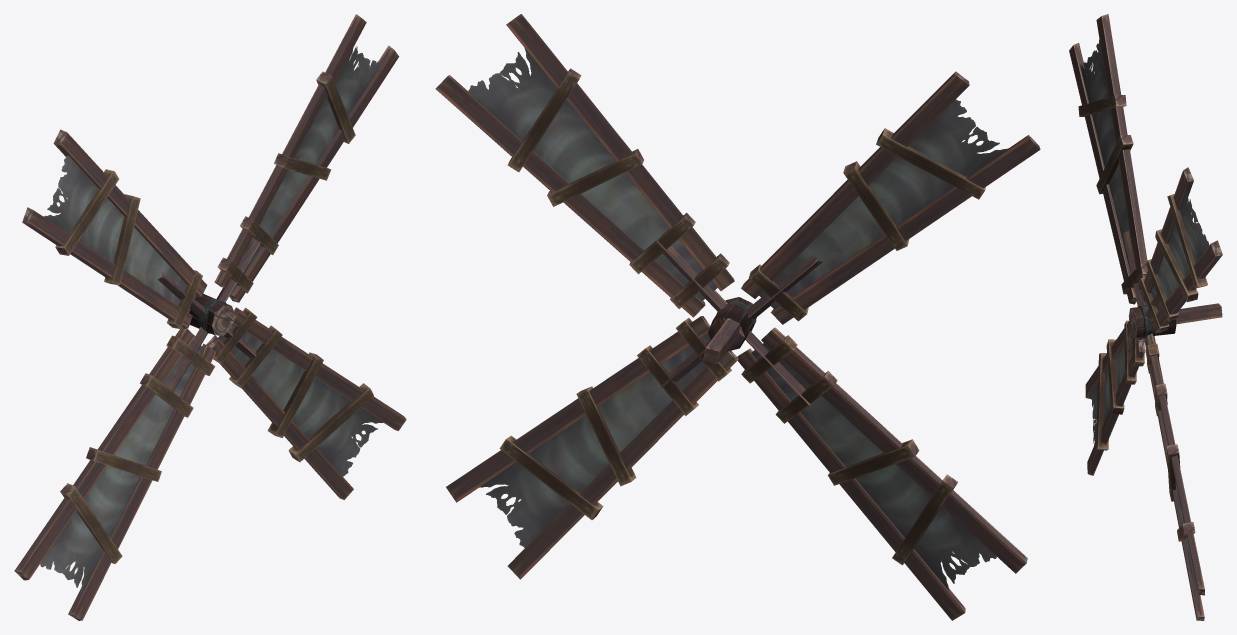
File: Mill_Fan.fbx
3 views of the same model, side by side, from view 1: azimuth 30°, elevation 25°; view 2: azimuth 150°, elevation 25°; view 3: azimuth 270°, elevation 25° (orthographic). The views are drawn at different scales.
Parts seen in each view (by area): view 1: Mill_Fan; view 2: Mill_Fan; view 3: Mill_Fan.
Part boxes in pixels (x1,y1,x2,y2): Mill_Fan: (14, 14, 406, 620); Mill_Fan: (435, 14, 1040, 620); Mill_Fan: (1069, 14, 1222, 620).
Size of the model in its own units: 34.35 by 35.52 by 10.8.
